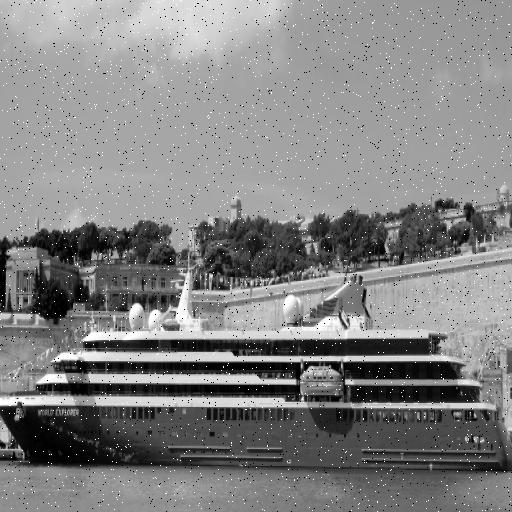cruises: (1, 245, 512, 482)
